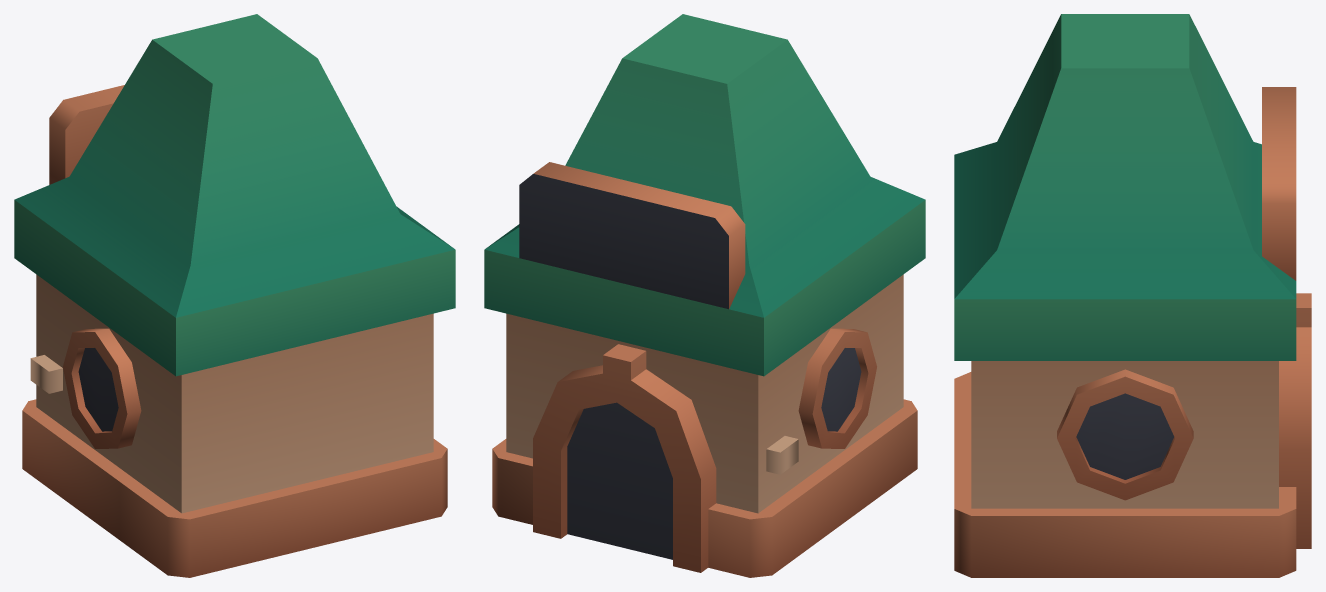
File: ride-entrance.glb
3 views of the same model, side by side, from view 1: azimuth 30°, elevation 25°; view 2: azimuth 150°, elevation 25°; view 3: azimuth 270°, elevation 25° (orthographic). The views are drawn at different scales.
Visible parts, largest first — view 1: ride-entrance; view 2: ride-entrance, OuterShell; view 3: ride-entrance, OuterShell.
Part boxes in pixels (bbox=[...]): ride-entrance: bbox=[14, 14, 455, 577]; ride-entrance: bbox=[484, 14, 925, 577]; OuterShell: bbox=[533, 344, 716, 572]; ride-entrance: bbox=[954, 14, 1296, 577]; OuterShell: bbox=[1279, 293, 1311, 548].
Size of the model in its own units: 1 by 1.5 by 1.04.
